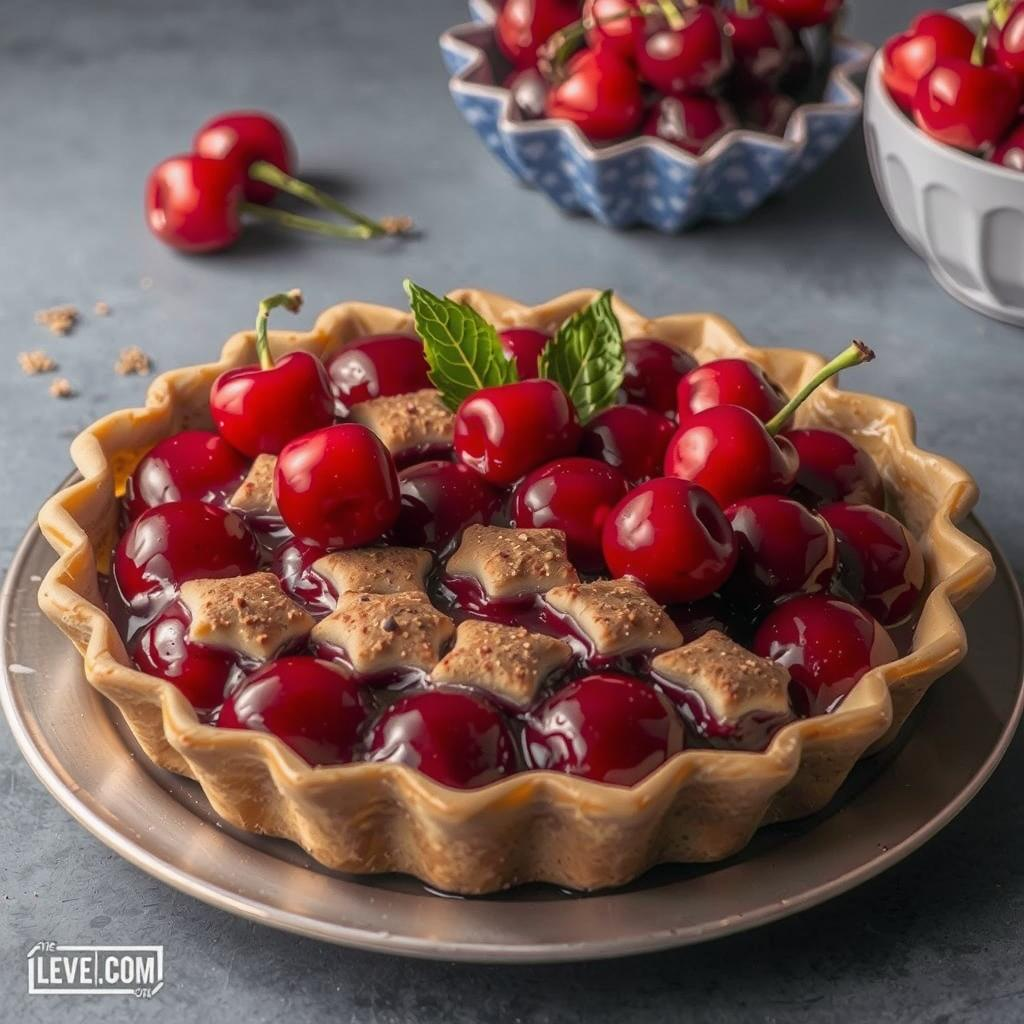pie: (26, 281, 1011, 897)
